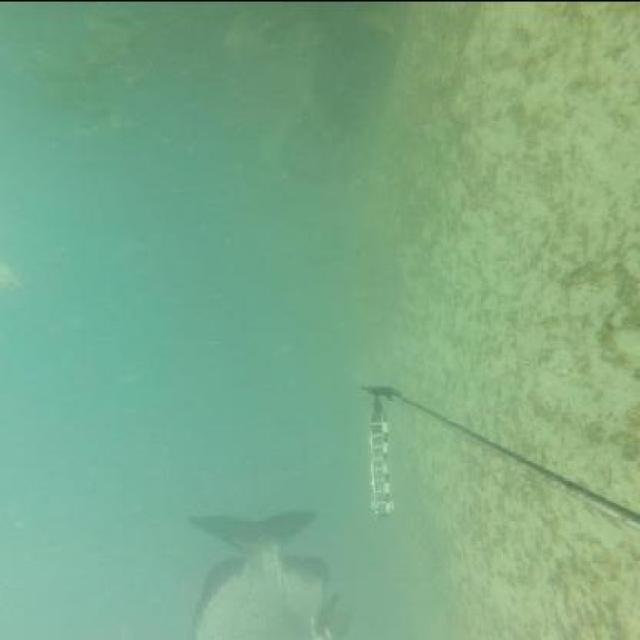acanthopagrus_palmaris: (186, 506, 352, 640)
